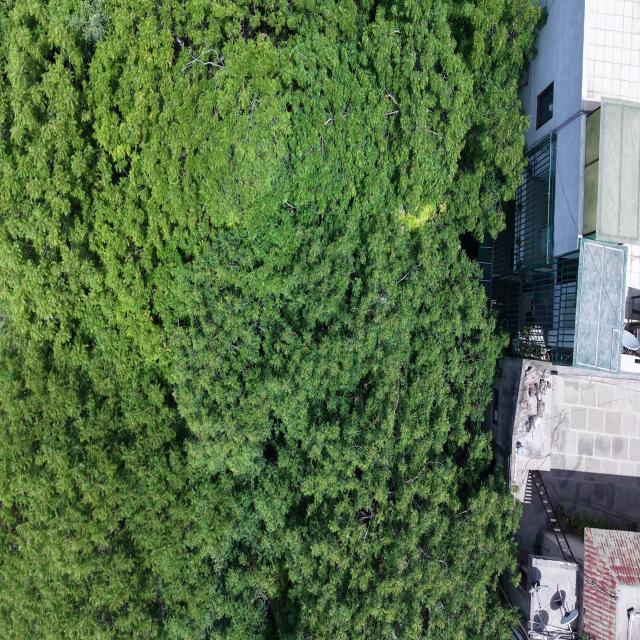ROOFTOP_BUILDING: (476, 0, 639, 623), (477, 0, 639, 499), (491, 0, 639, 373), (487, 358, 639, 573), (520, 0, 639, 257), (486, 358, 639, 528), (504, 528, 639, 639), (504, 555, 580, 639), (583, 528, 639, 639), (528, 556, 579, 639)
VEGETATION_TREE: (0, 0, 540, 639)
